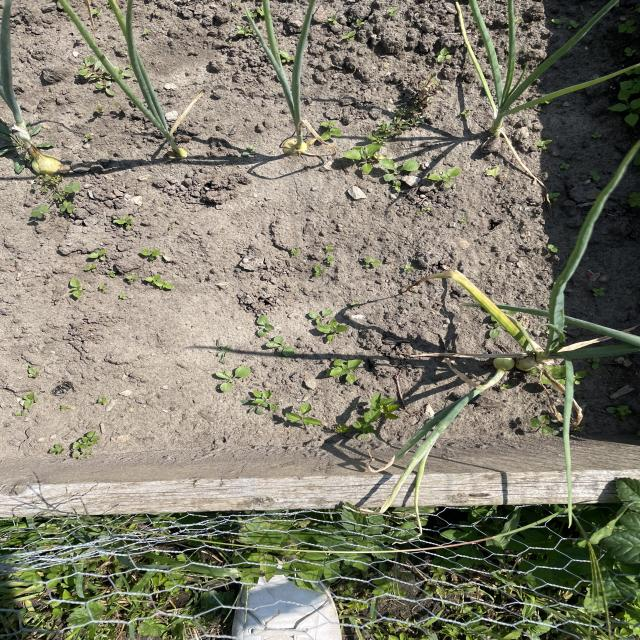Onion: (418, 267, 640, 450), (475, 0, 610, 140), (75, 0, 191, 157), (0, 11, 67, 172), (253, 0, 314, 151)
weed: (340, 142, 484, 195), (62, 244, 175, 302), (340, 393, 404, 442), (28, 175, 86, 223), (246, 315, 302, 363), (41, 429, 102, 463), (308, 307, 351, 344), (205, 364, 254, 393), (273, 406, 326, 432), (241, 387, 287, 415), (327, 355, 370, 382)
